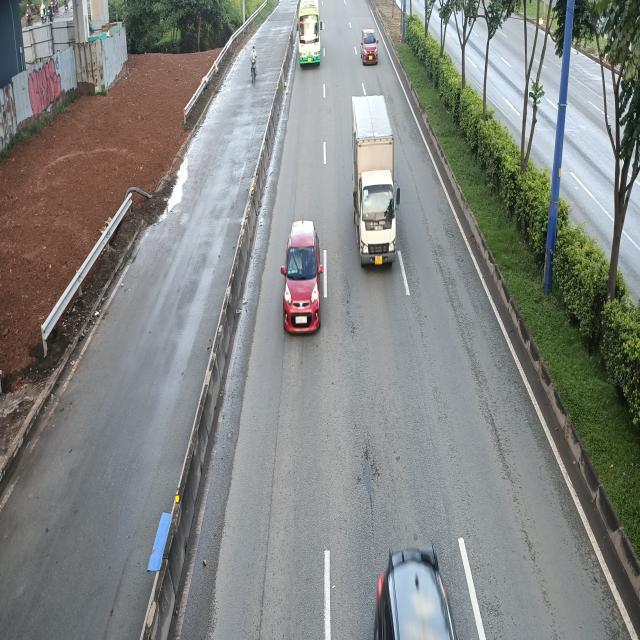car: (280, 220, 323, 338), (360, 30, 377, 67)
coach: (294, 0, 321, 67)
truck: (349, 94, 399, 266)
